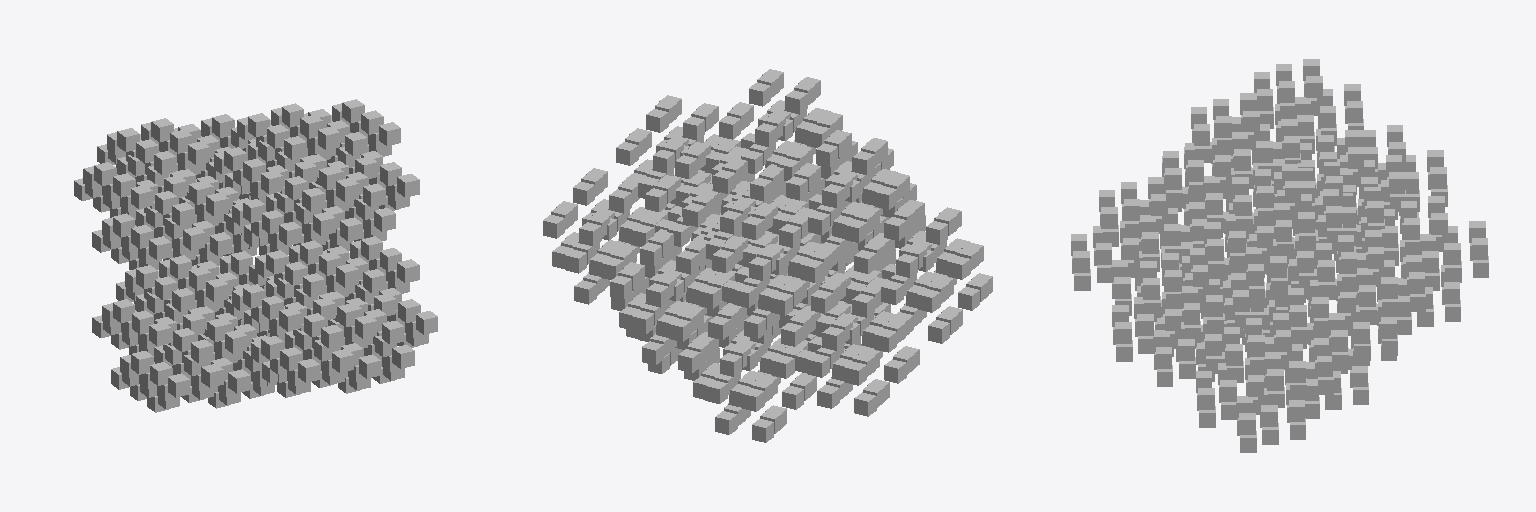
Rendered from testing3.obj.
The picture shows the model from 3 angles: view 1: azimuth 30°, elevation 25°; view 2: azimuth 150°, elevation 25°; view 3: azimuth 270°, elevation 25°; orthographic projection.
Size of the model in its own units: 47.28 by 40.92 by 50.77.